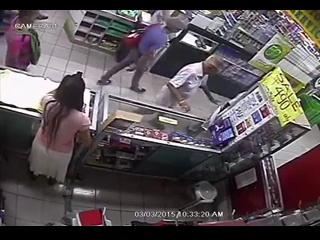Normal: (27, 71, 94, 190), (97, 15, 189, 94), (153, 55, 224, 113)
